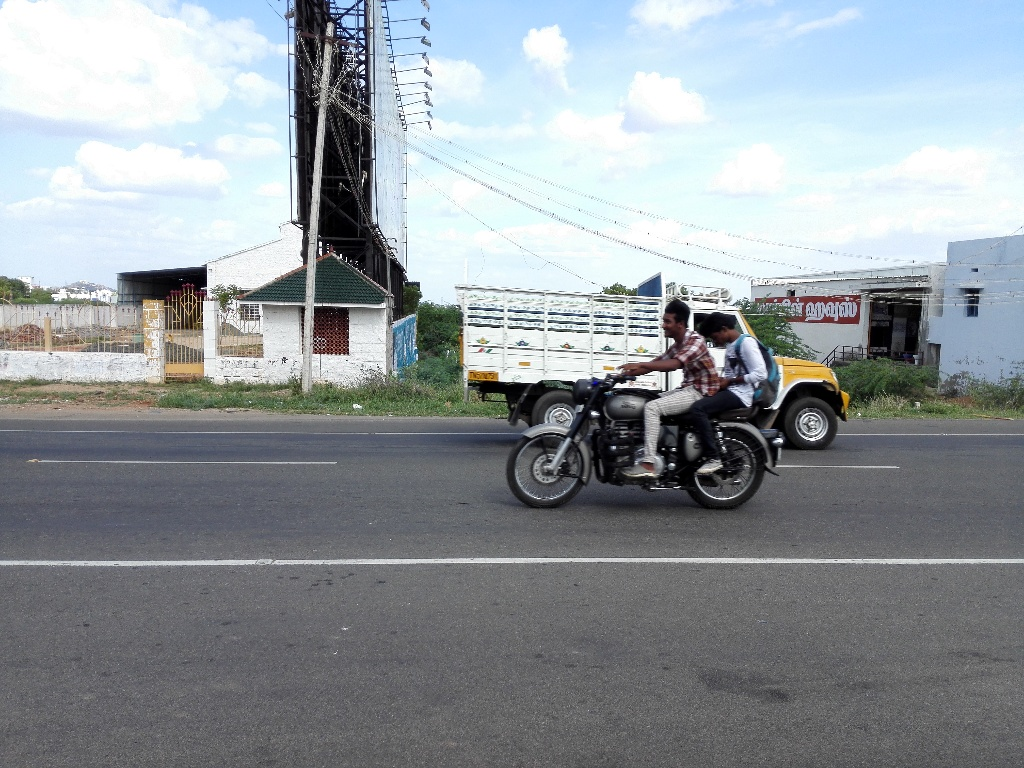biker: (498, 267, 797, 525)
nohelmet: (697, 297, 744, 355), (658, 286, 696, 350)
